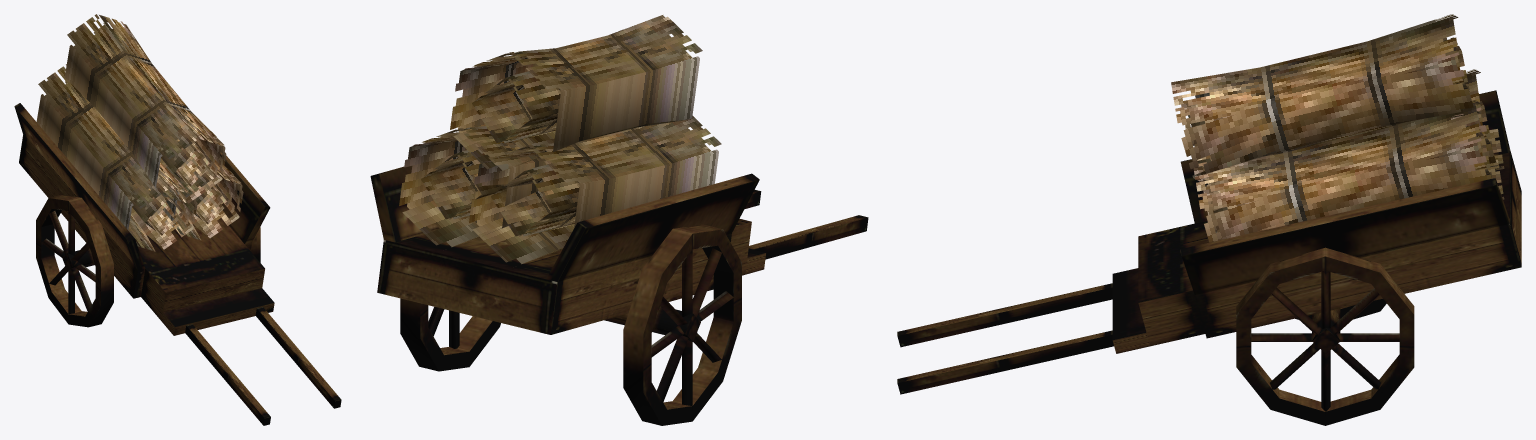
File: Carriage04.glb
The picture shows the model from 3 angles, left to right: view 1: azimuth 30°, elevation 25°; view 2: azimuth 150°, elevation 25°; view 3: azimuth 270°, elevation 25°; orthographic projection. The views are drawn at different scales.
Parts seen in each view (by area): view 1: Carriage04; view 2: Carriage04; view 3: Carriage04.
Part boxes in pixels (box(x1,y1,x2,y2)): Carriage04: box(14, 14, 341, 425); Carriage04: box(370, 15, 868, 425); Carriage04: box(897, 14, 1521, 425).
Size of the model in its own units: 1.79 by 2.74 by 4.37.
Materials: 2 (2 with a texture image).
